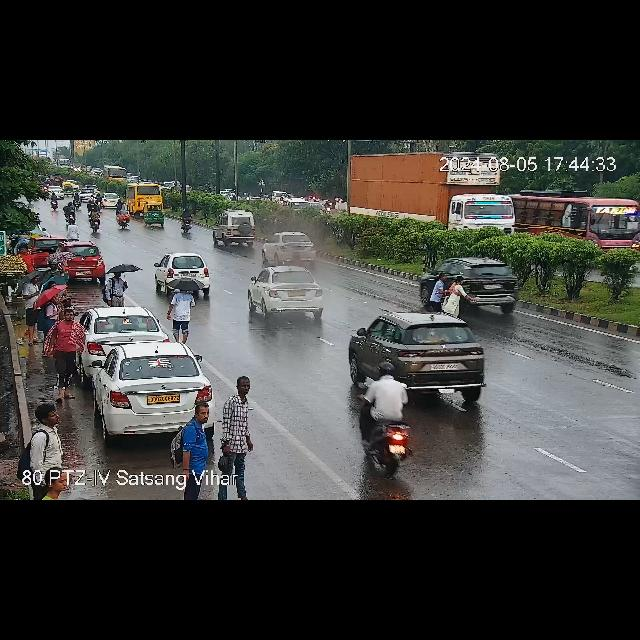bus: (513, 190, 640, 254), (126, 183, 162, 213)
car: (348, 314, 492, 396), (85, 346, 213, 438), (421, 258, 521, 314), (83, 306, 171, 356), (23, 235, 105, 275), (156, 252, 212, 296), (262, 232, 318, 266), (210, 210, 256, 248), (59, 243, 105, 279), (144, 202, 166, 228), (62, 182, 74, 194), (48, 185, 64, 193), (104, 192, 112, 208)
motorcycle: (364, 358, 416, 470), (180, 208, 200, 234), (112, 200, 128, 230), (76, 182, 102, 198), (89, 208, 101, 232), (88, 195, 105, 209), (65, 202, 75, 222), (50, 193, 58, 209)
person: (22, 402, 64, 501), (224, 374, 260, 474), (54, 310, 88, 398), (184, 399, 213, 466), (166, 278, 194, 344), (432, 266, 468, 312), (102, 263, 138, 305), (23, 274, 37, 342), (41, 293, 59, 327), (48, 278, 61, 292)
truck: (340, 150, 514, 234), (245, 266, 328, 320)
